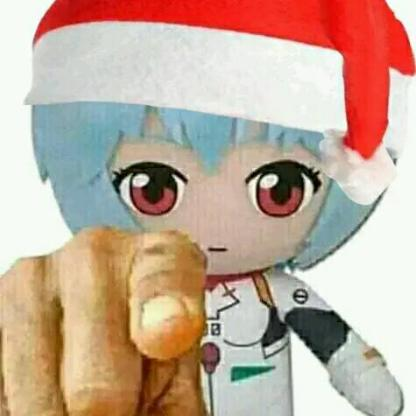rei-plush: (28, 95, 416, 416)
